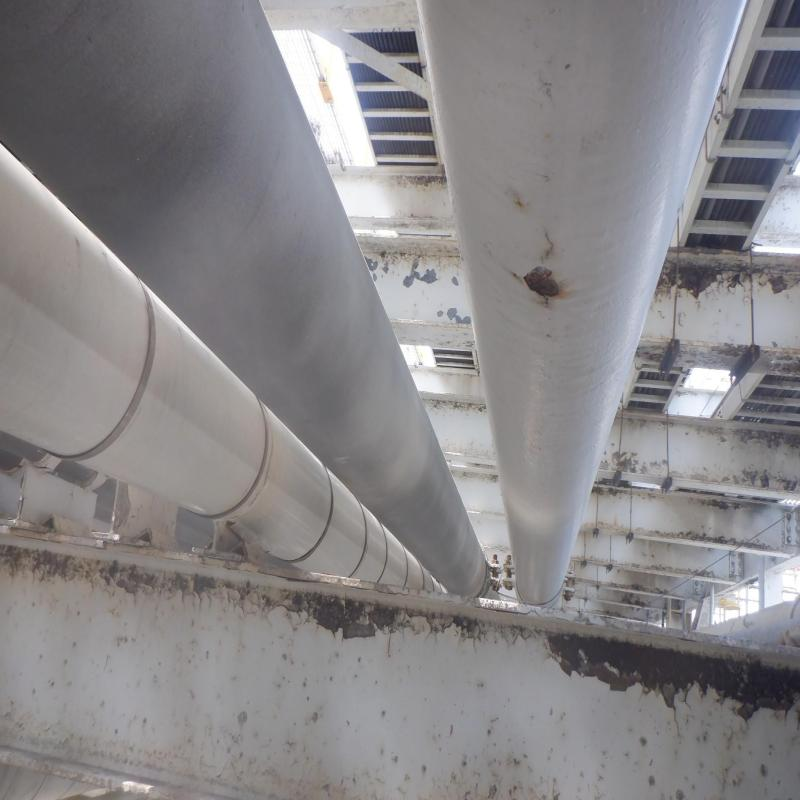corrosion: (523, 260, 561, 299)
